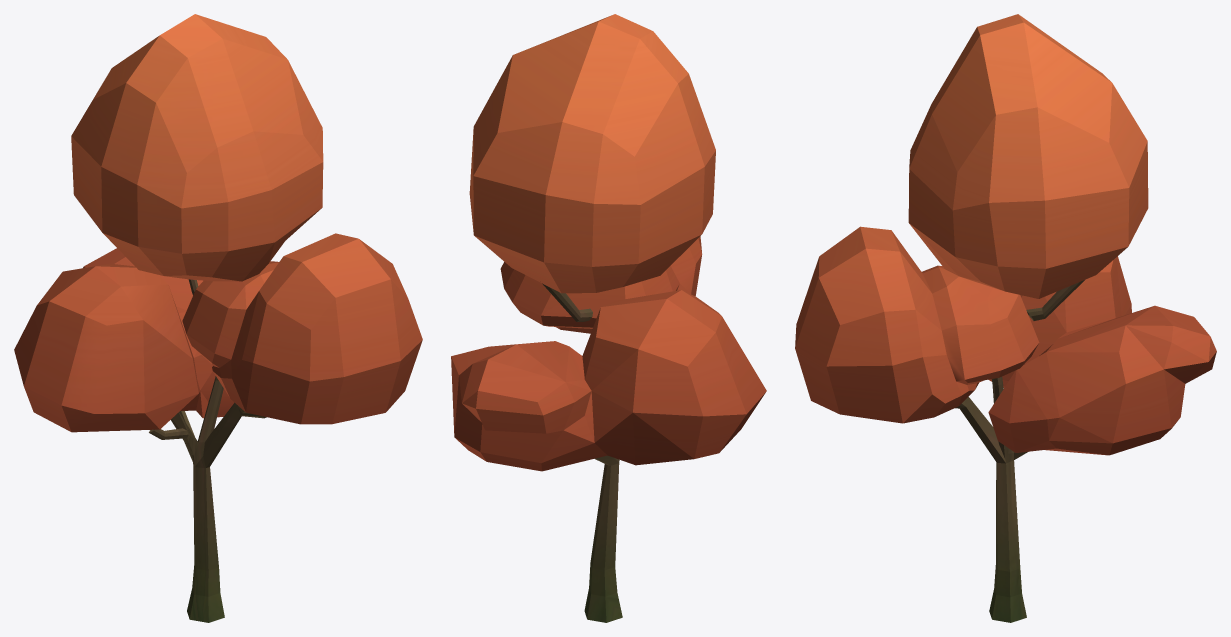
File: TER_TreeOrangeNormal.glb
3 views of the same model, side by side, from view 1: azimuth 30°, elevation 25°; view 2: azimuth 150°, elevation 25°; view 3: azimuth 270°, elevation 25° (orthographic).
Visible parts, largest first — view 1: TER_TreeOrangeNormal; view 2: TER_TreeOrangeNormal; view 3: TER_TreeOrangeNormal.
Boxes of the visible parts, x1=… form: TER_TreeOrangeNormal: x1=14, y1=14, x2=422, y2=622; TER_TreeOrangeNormal: x1=451, y1=14, x2=766, y2=622; TER_TreeOrangeNormal: x1=795, y1=14, x2=1216, y2=622.
Size of the model in its own units: 10.92 by 20.58 by 13.33.
1 material, 1 textured.
